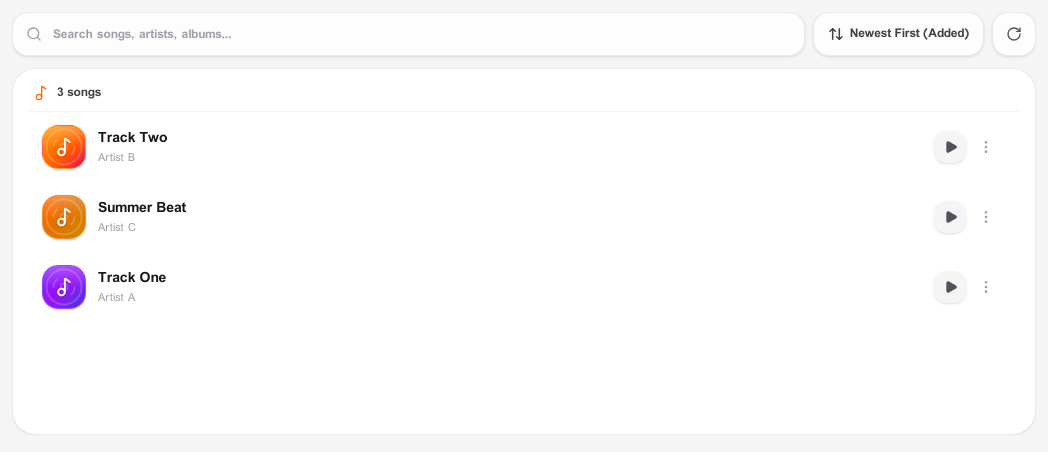
Test: SongsView Component › filters list on search input change
Type "Summer" into the field with placeholder "Search songs, artists, albums...".
click(408, 34); type("Summer")  # box [12,12,805,56]
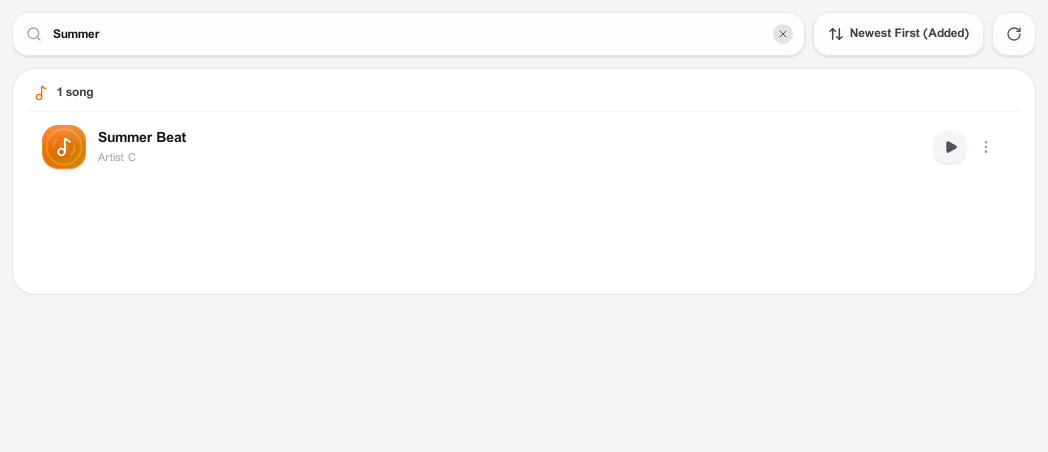
Expected: the text "Summer Beat" is shown, [98,128,186,148]
Expected: the text "Track One" is gone
